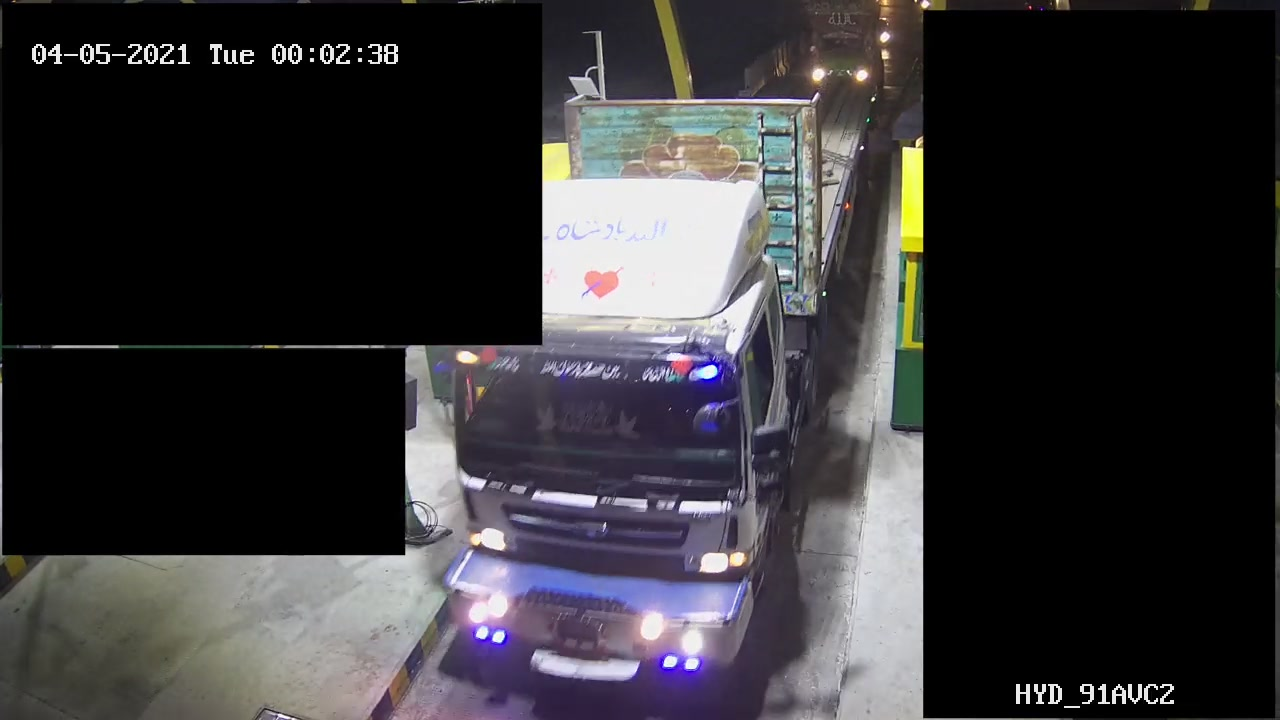F6: (445, 77, 883, 686)
